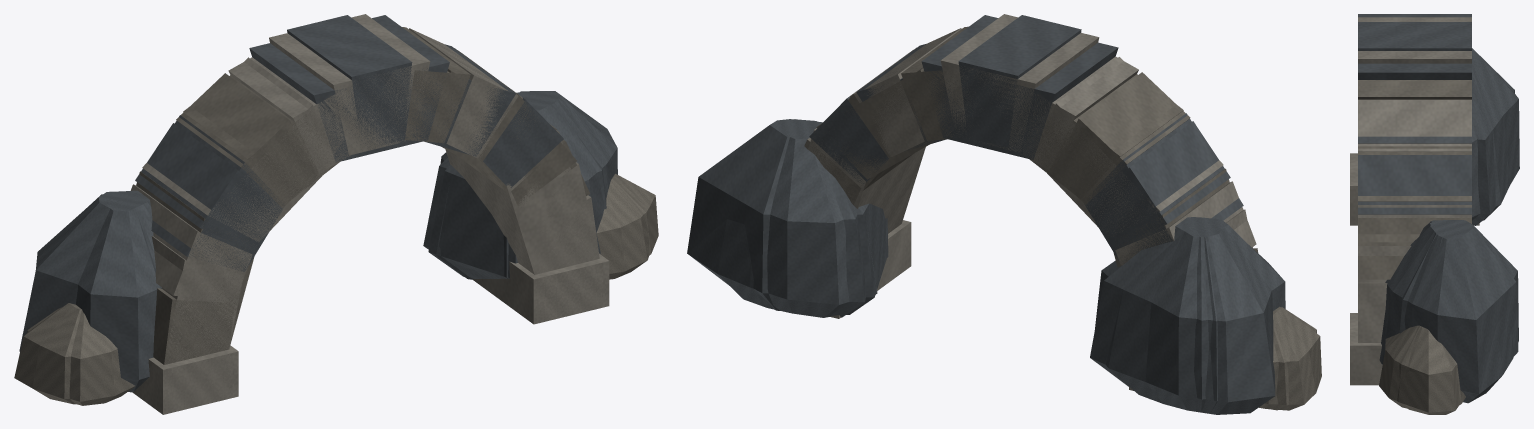
File: CaveMouth.fbx
3 views of the same model, side by side, from view 1: azimuth 30°, elevation 25°; view 2: azimuth 150°, elevation 25°; view 3: azimuth 270°, elevation 25° (orthographic). The views are drawn at different scales.
Visible parts, largest first — view 1: CaveMouthDetail0, CaveMouthDetail1, CaveMouthDetail2; view 2: CaveMouthDetail0, CaveMouthDetail2, CaveMouthDetail1; view 3: CaveMouthDetail0, CaveMouthDetail1, CaveMouthDetail2.
Boxes of the visible parts, x1,y1,x2,y2 form: CaveMouthDetail0: (14,15,655,411); CaveMouthDetail1: (19,14,658,414); CaveMouthDetail2: (89,15,606,362); CaveMouthDetail0: (687,15,1316,414); CaveMouthDetail2: (687,15,1229,413); CaveMouthDetail1: (771,14,1321,411); CaveMouthDetail0: (1350,22,1519,414); CaveMouthDetail1: (1350,17,1514,414); CaveMouthDetail2: (1358,14,1518,403).
Size of the model in its own units: 832 by 363 by 220.
Materials: 1 (1 with a texture image).
